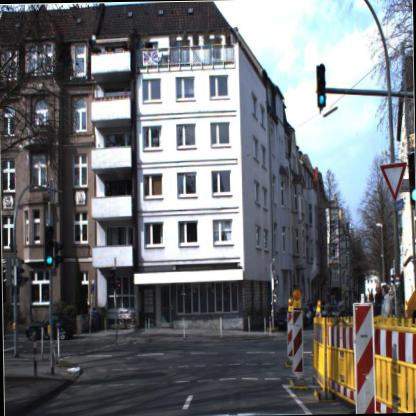other: (378, 162, 406, 200)
